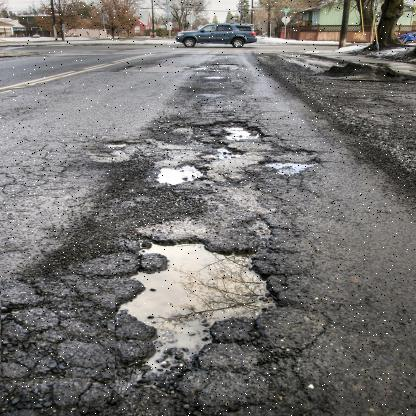crack: (0, 279, 115, 379)
damage: (128, 120, 316, 190)
pothole_water: (88, 233, 290, 385)
